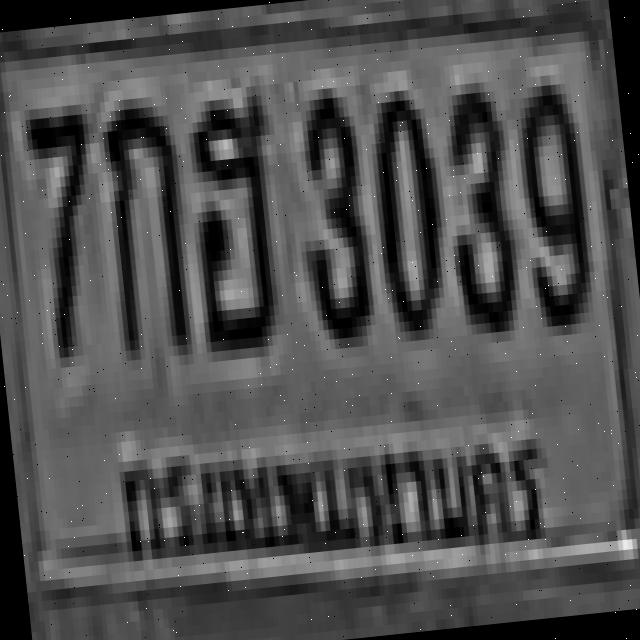0: (360, 78, 447, 333)
10GorGai: (94, 85, 192, 351)
3: (284, 76, 372, 341), (435, 70, 518, 326)
53HorNokHook: (178, 85, 284, 342)
7: (19, 94, 106, 349)
9: (509, 72, 592, 328)
Bangkok: (112, 394, 560, 596)
